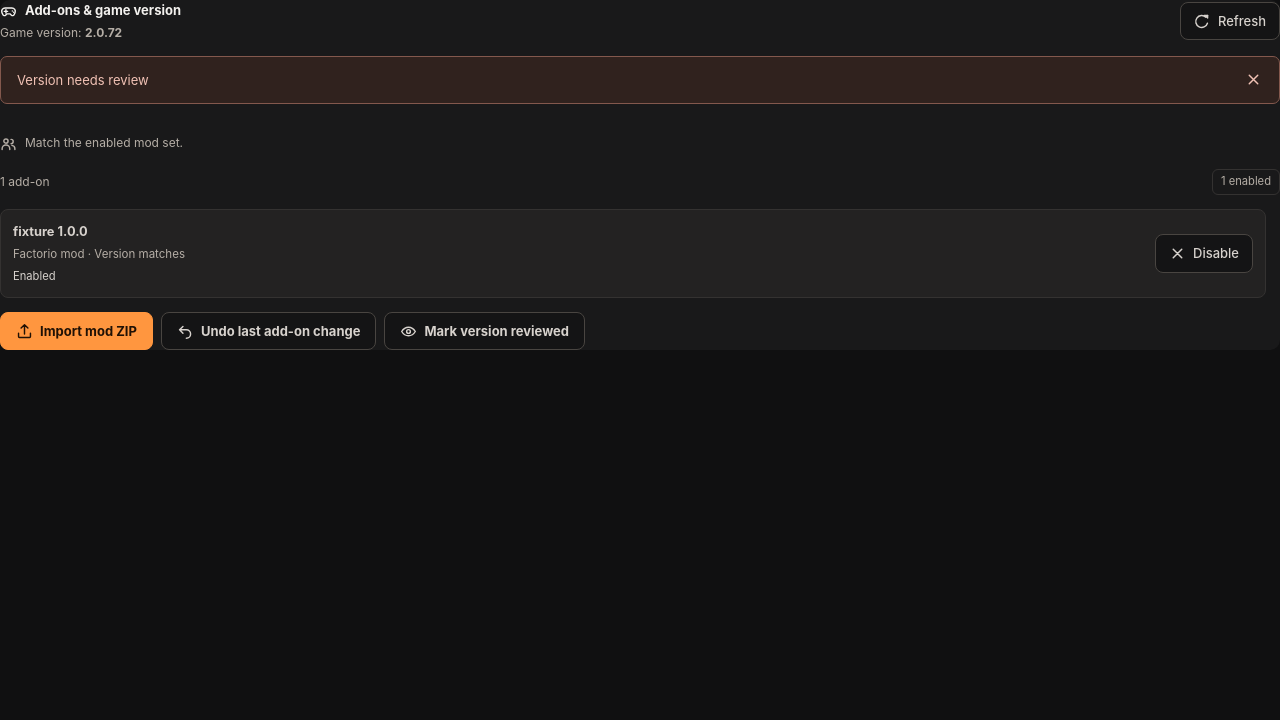
Test: confirms Mark version reviewed with its original warning and state token
The width and height of the screenshot is (1280, 720).
expect the text "fixture 1.0.0" is shown: met, box left=13, top=224, right=88, bottom=239
Click the button "Mark version reviewed": {"x": 485, "y": 331} left=384, top=312, right=585, bottom=350
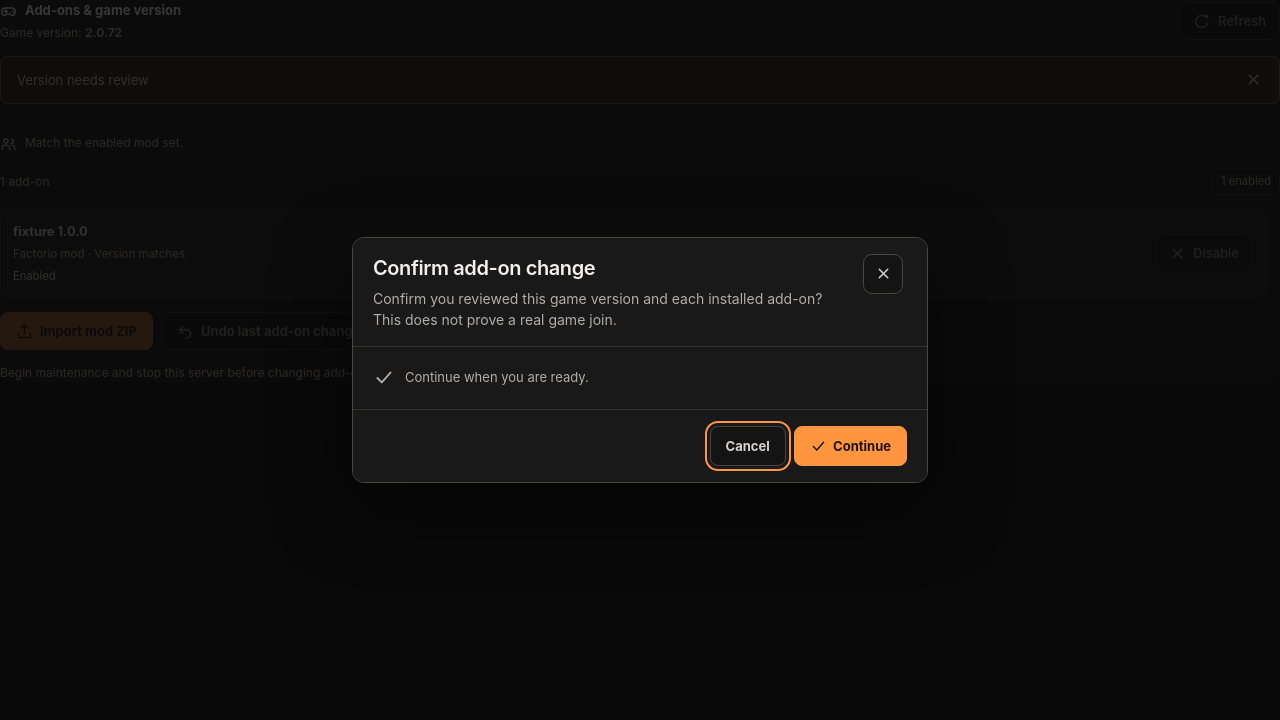
expect the text "Confirm you reviewed this game version and each installed add-on? This does not prove a real game join." is shown: met, box left=373, top=290, right=822, bottom=328
Click the button "Continue": {"x": 850, "y": 446} left=794, top=426, right=907, bottom=466
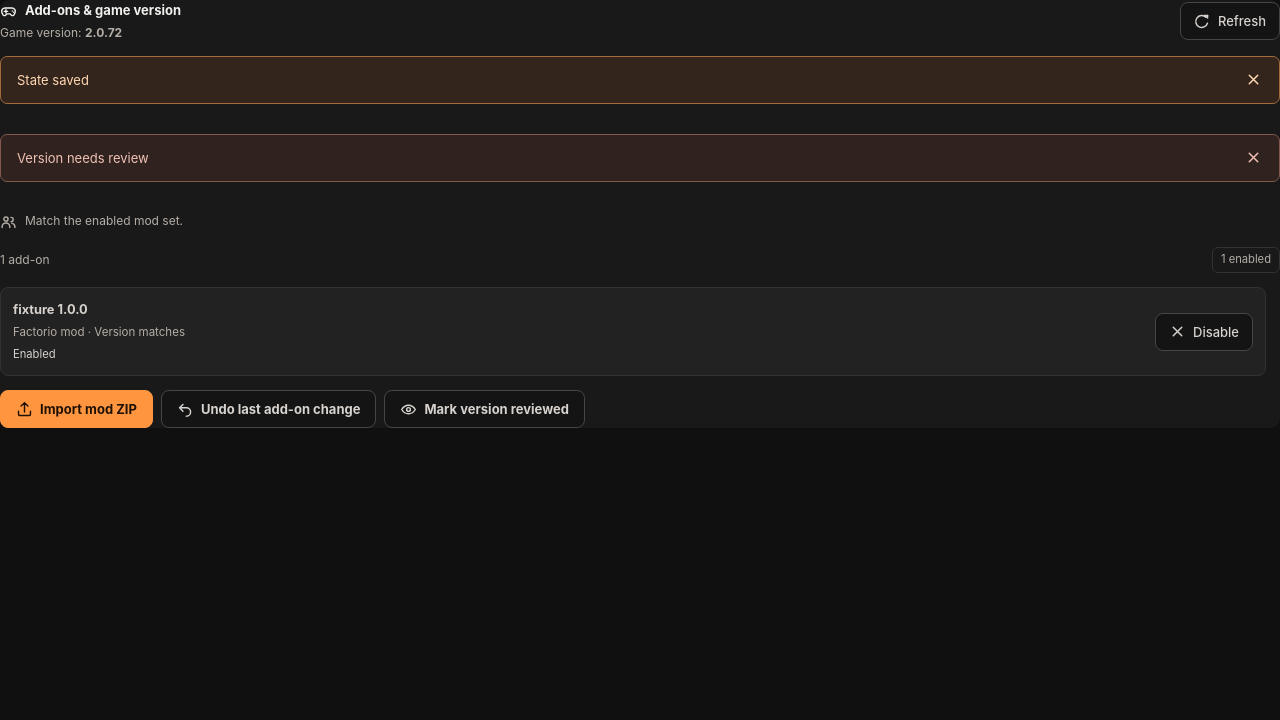
expect the text "State saved" is shown: met, box left=0, top=56, right=1279, bottom=104
